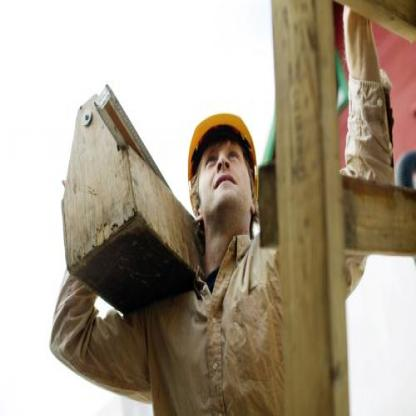helmet: (187, 114, 260, 232)
